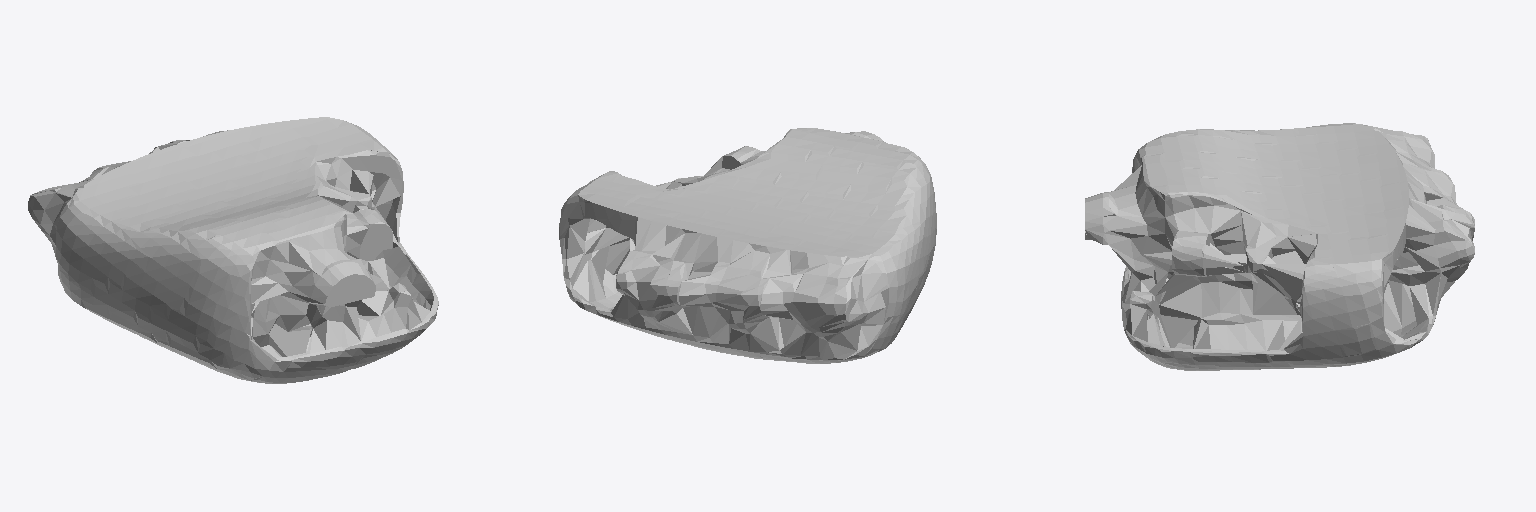
The model's file is sim_ecub_r_hand_palm.obj.
3 renders of one model, left to right at view 1: azimuth 30°, elevation 25°; view 2: azimuth 150°, elevation 25°; view 3: azimuth 270°, elevation 25°, orthographic.
Bounding box in the file's own units: 101 × 47.03 × 106.